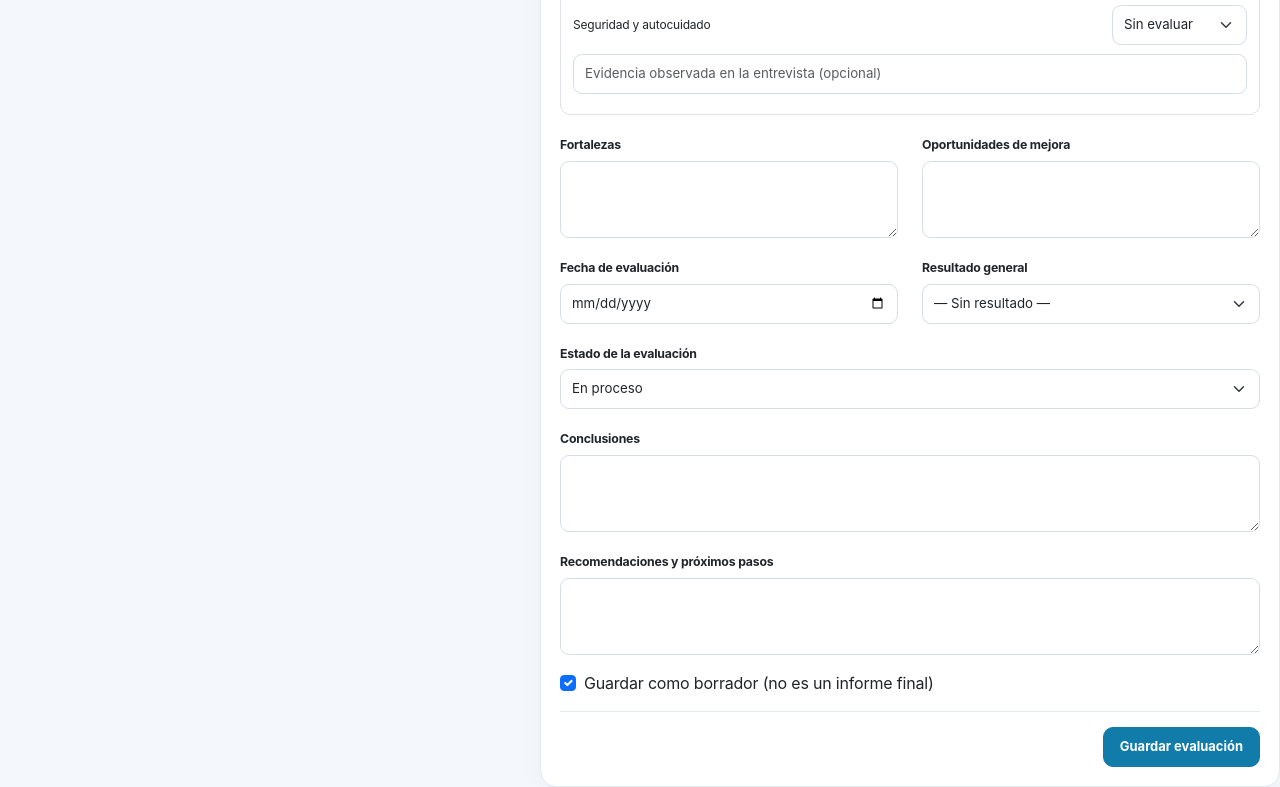
SolicitudDetallePage › no guarda una evaluación vacía
(page scrolled)
Click the button "Guardar evaluación" at (1181, 747), box [1103,728,1260,767]
(page scrolled)
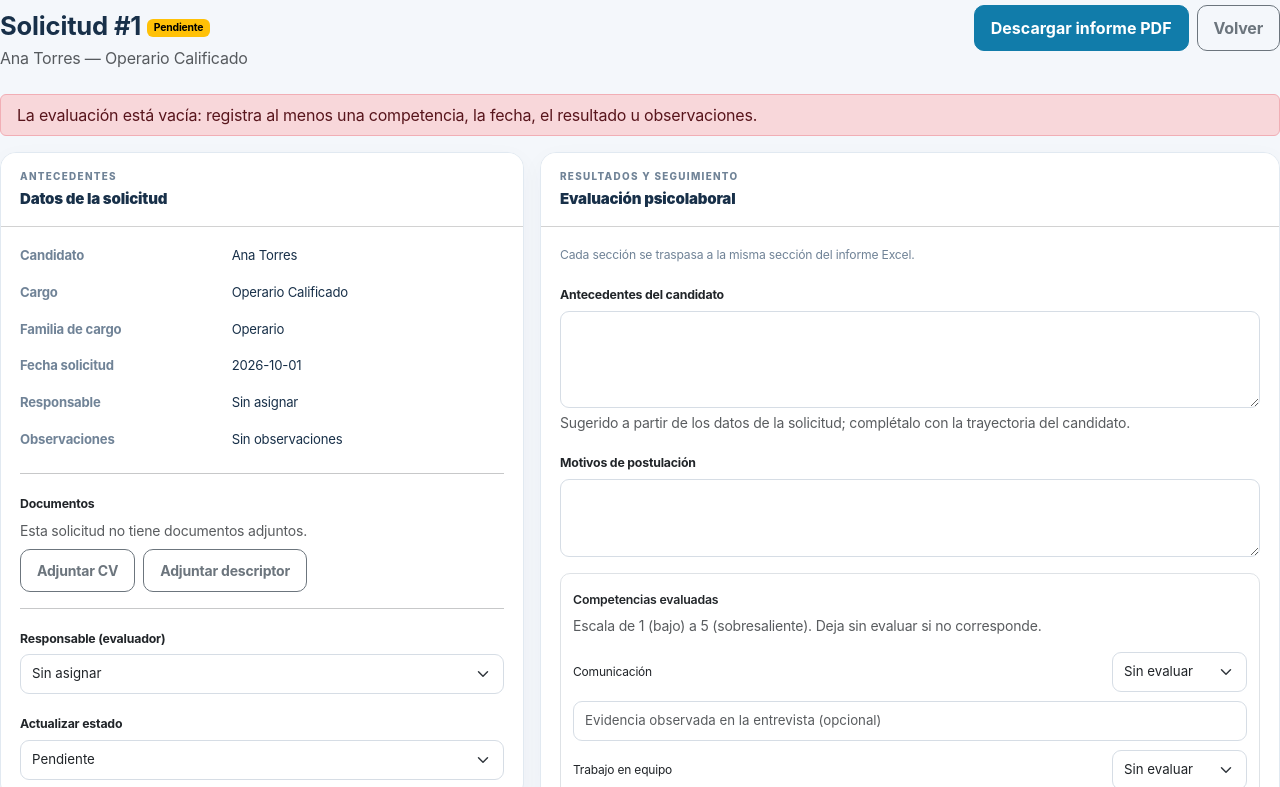
Result: the text "La evaluación está vacía" is shown at [17,105,757,125]
